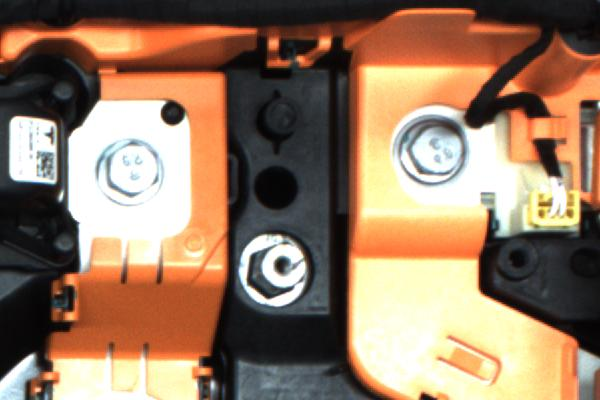nut_b: (93, 134, 174, 210), (387, 116, 471, 188)
